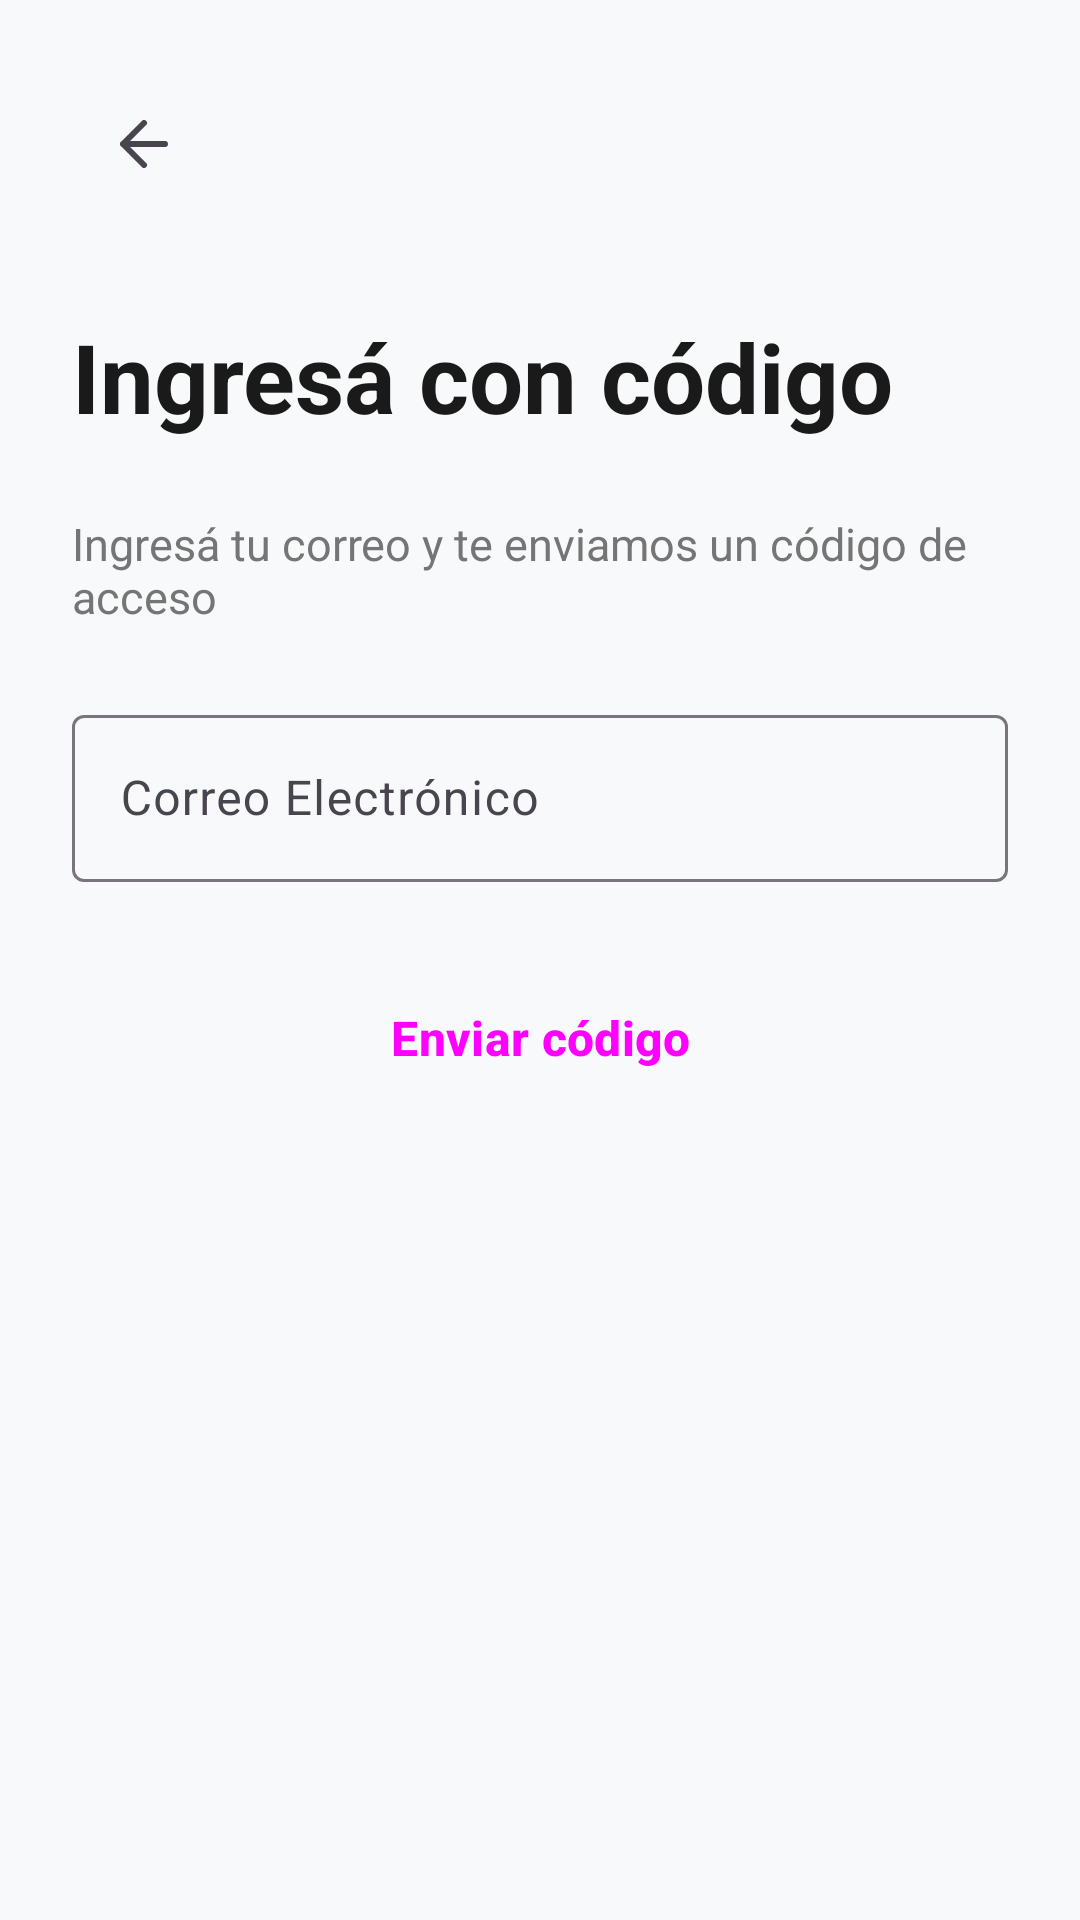

Named icons in this screenshot (1080×1920) and their bounding boxes, (x1, y1, x2, y2):
Volver: (120, 120, 168, 168)
